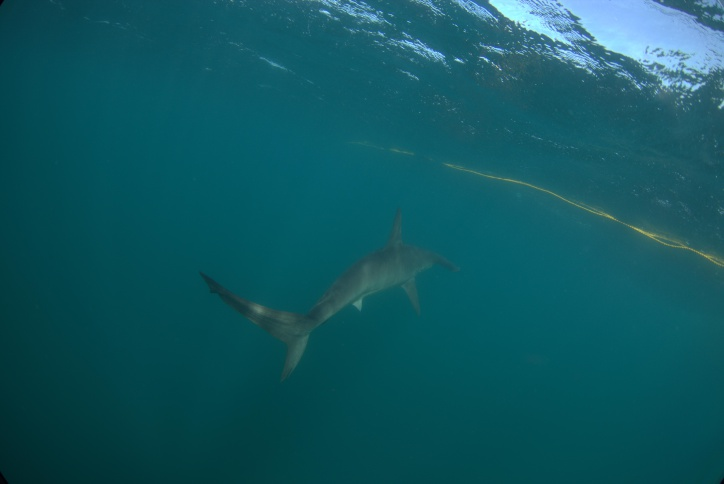Hammer: (162, 200, 487, 392)
